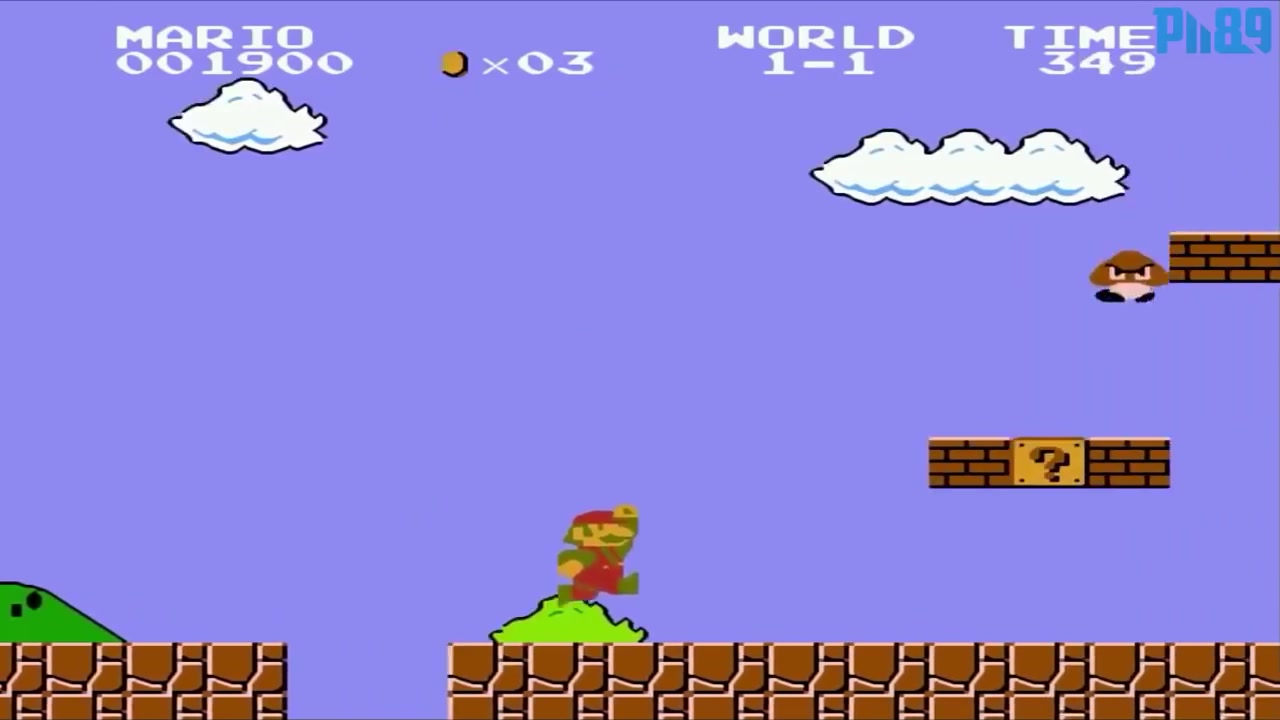mario: (545, 505, 658, 606)
